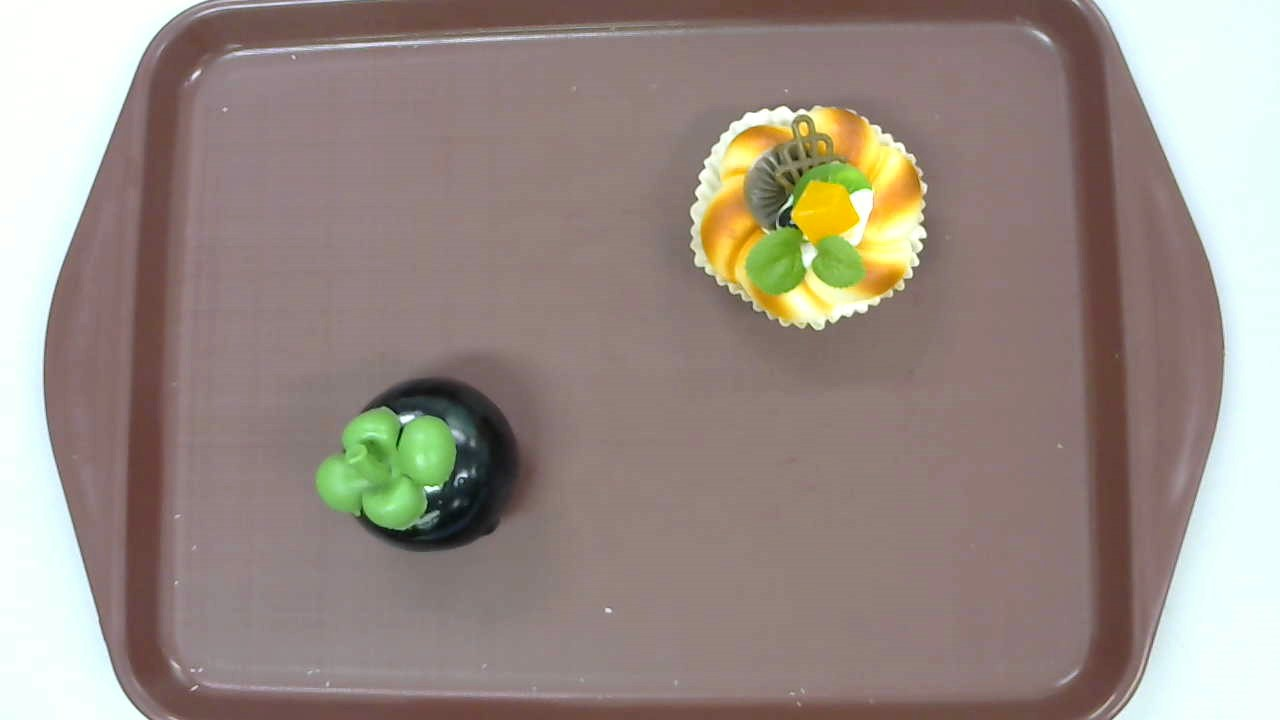fruit tart: (689, 104, 928, 332)
mangosteen: (315, 378, 522, 551)
